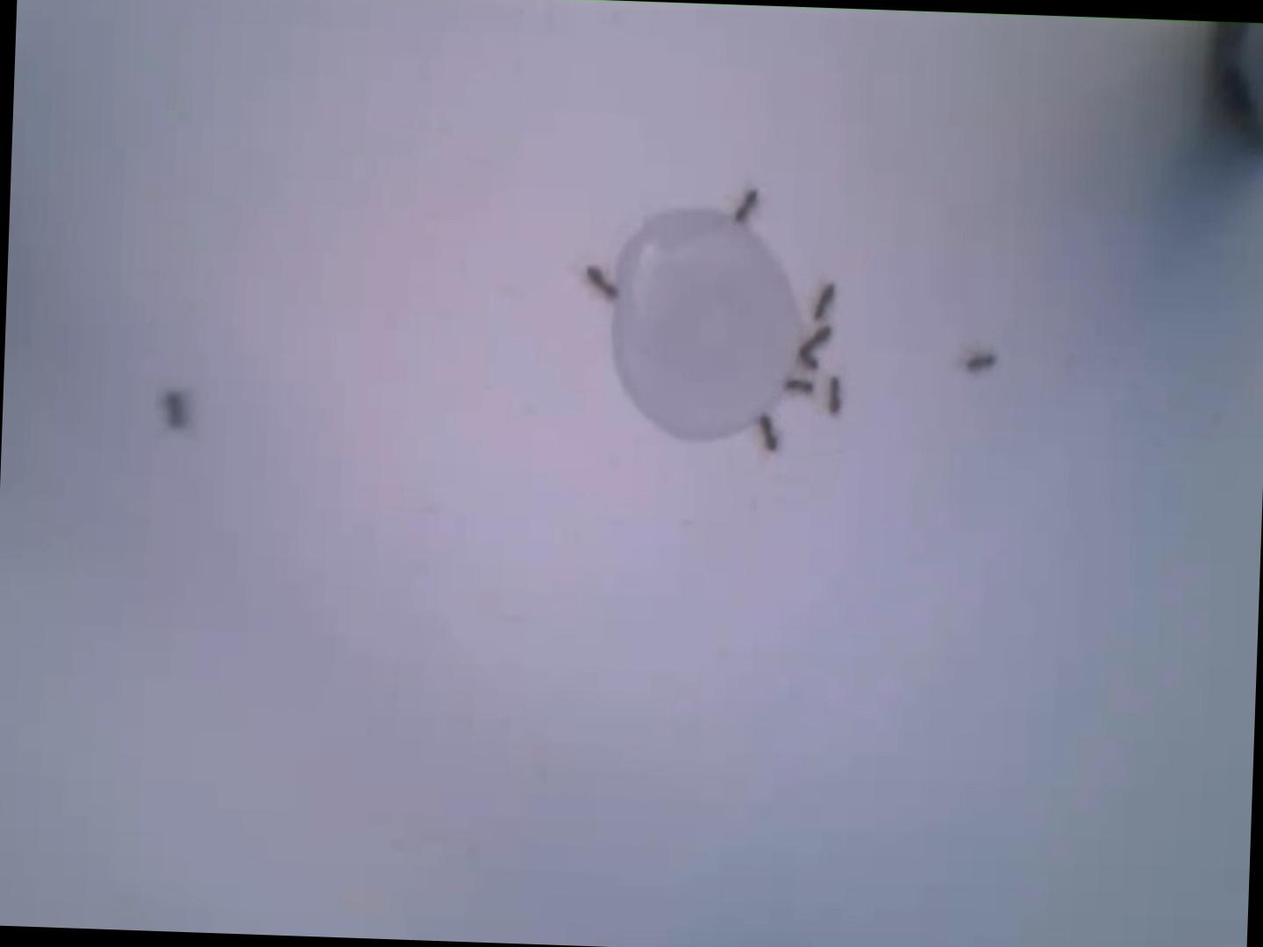Ant: (583, 266, 616, 299), (799, 324, 830, 356), (811, 281, 835, 321), (733, 187, 758, 224), (161, 390, 184, 429), (754, 414, 777, 452), (793, 344, 824, 371), (961, 350, 994, 373), (823, 377, 842, 416), (781, 375, 814, 396)
